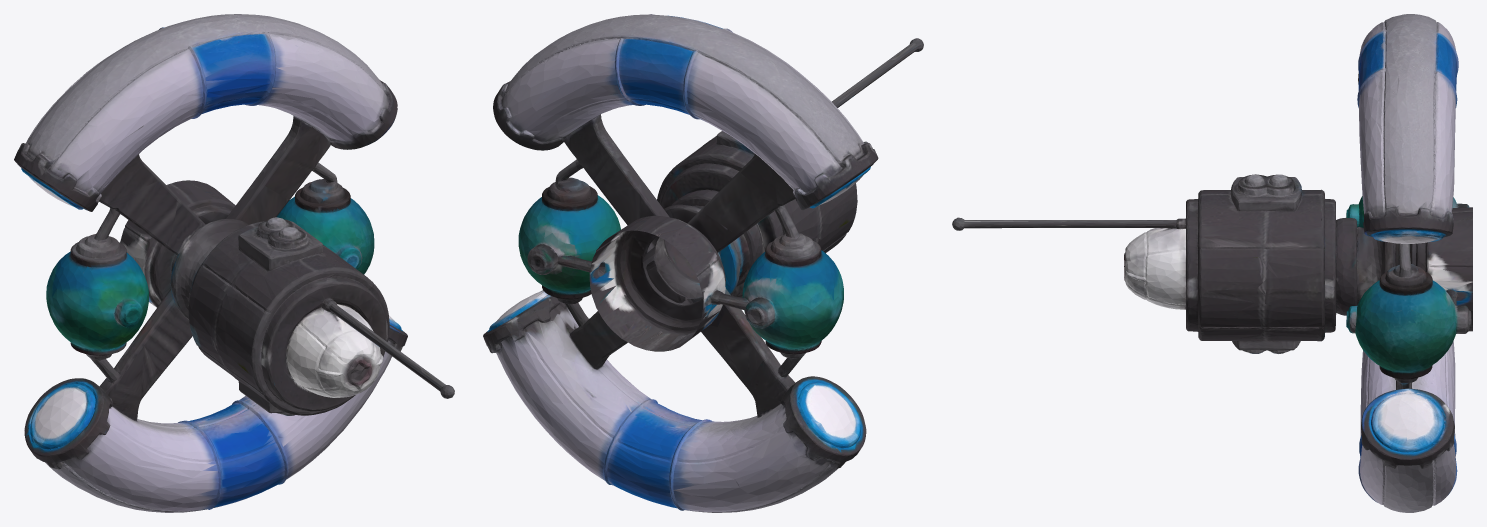
The model's file is sonda_rotor.obj.
3 renders of one model, left to right at view 1: azimuth 30°, elevation 25°; view 2: azimuth 150°, elevation 25°; view 3: azimuth 270°, elevation 25°, orthographic. The views are drawn at different scales.
Visible parts, largest first — view 1: sonda_union; view 2: sonda_union; view 3: sonda_union.
Boxes of the visible parts, x1,y1,x2,y2 form: sonda_union: (14, 14, 454, 512); sonda_union: (483, 14, 923, 512); sonda_union: (952, 14, 1472, 512).
Bounding box in the file's own units: 0.334 × 0.4062 × 0.4212.
1 material, 1 textured.
